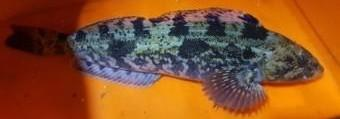fish: (7, 9, 322, 111)
